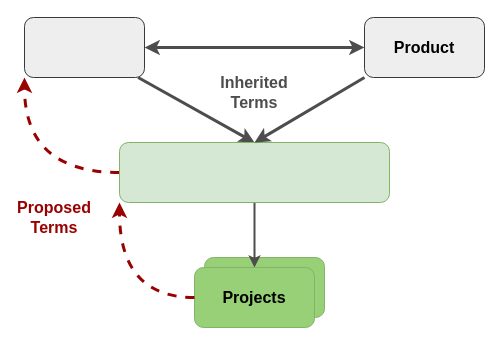
Image size: 502x345. Some labels were removed from this diagram. Each missing label, with the box of its shape:
Foundation: (24, 16, 144, 78)
Organization: (118, 142, 390, 202)
